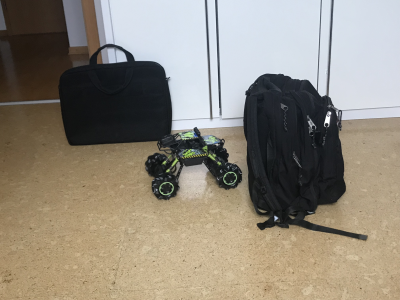remote control car: (143, 125, 244, 201)
